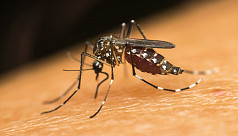dengue_mosquito: (64, 20, 202, 118)
